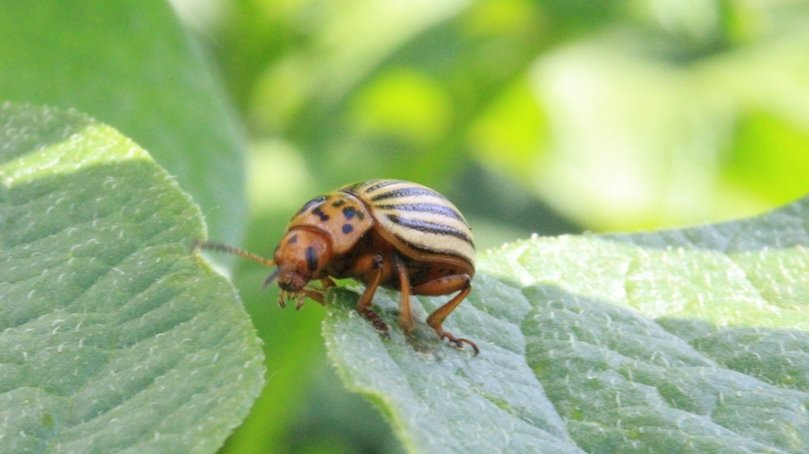hrosc: (277, 176, 480, 353)
